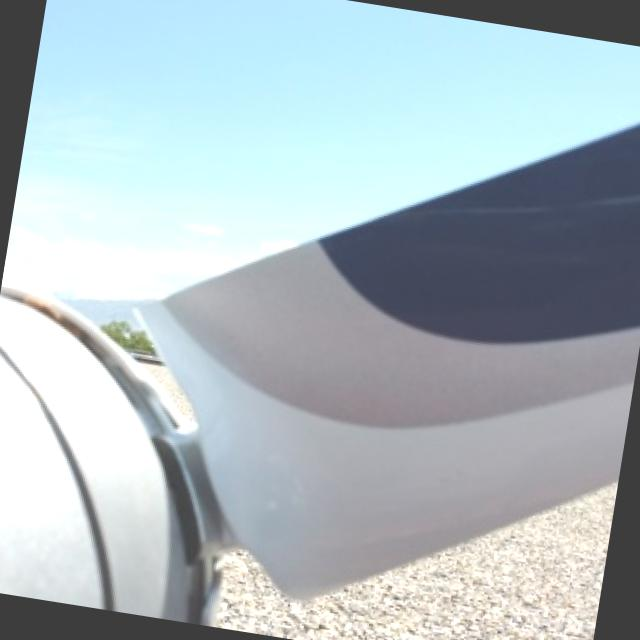healthy: (222, 484, 618, 640)
